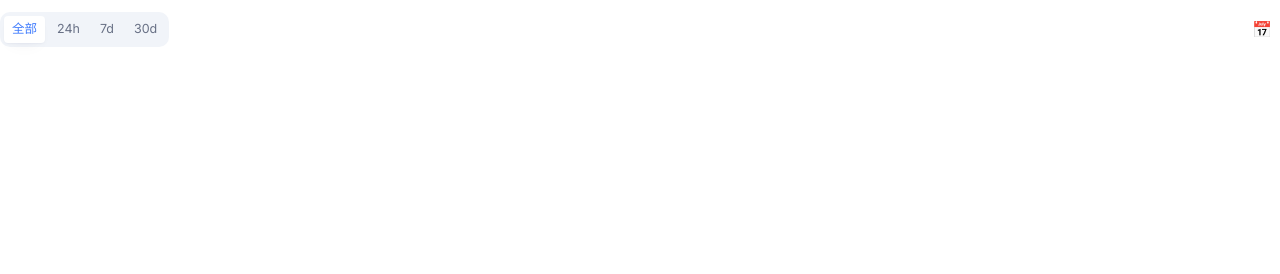
Test case: TimeRangeFilter › AC-004: 在弹层内输入有效时间范围并点击应用，正确触发 on_change 切换为 custom
Click the button with test id "time-custom-button": (1262, 29) [1248,15,1276,43]
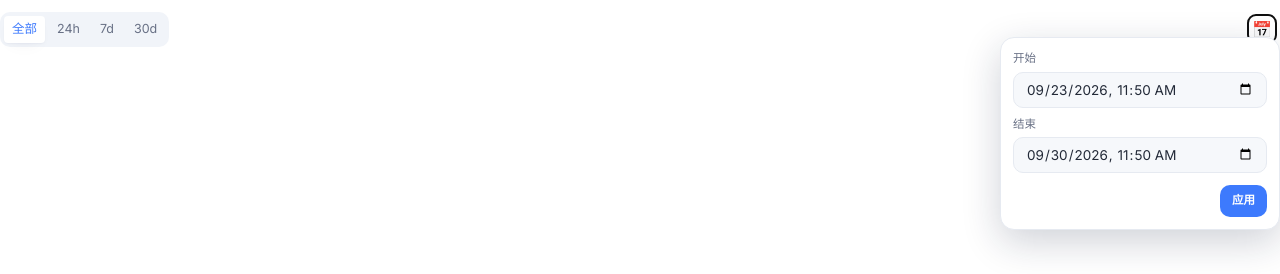
Check: the number of fields is 2
Replace the text in the field labelled "开始" with "2026-07-10T08:00": (1140, 90) [1013,72,1267,108]
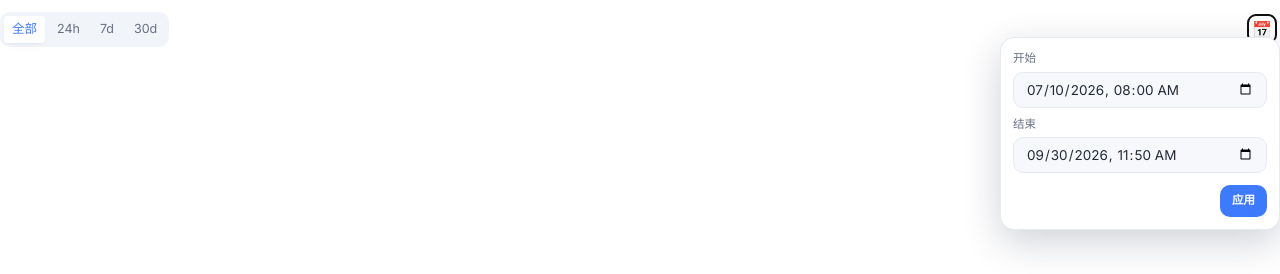
Replace the text in the field labelled "结束" with "2026-07-10T09:00": (1140, 155) [1013,137,1267,173]
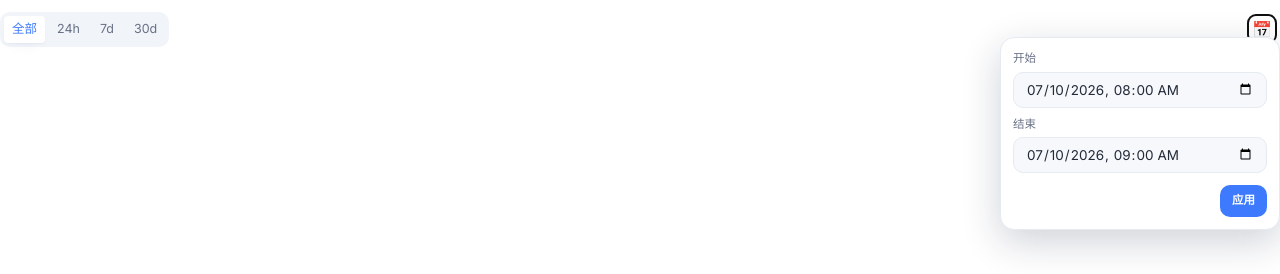
Click the button "应用": (1244, 201) [1220,185,1267,217]
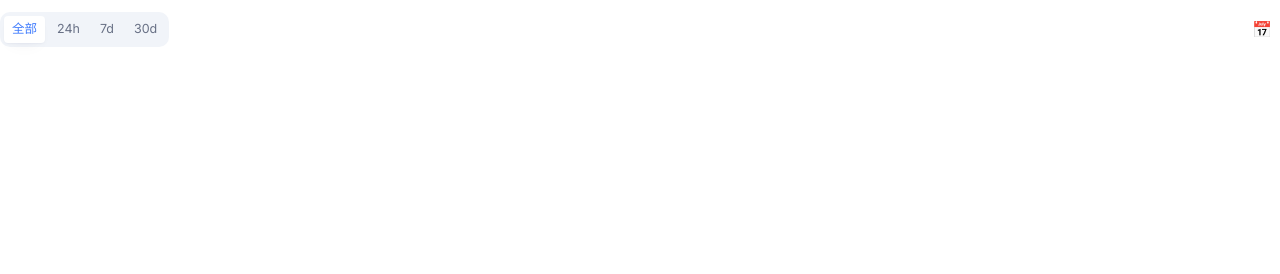
Check: the button "应用" is gone
